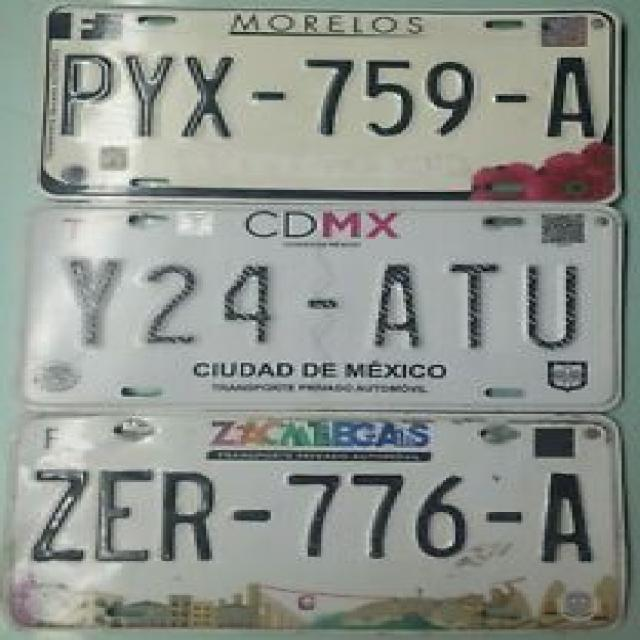placa: (12, 456, 621, 577), (29, 240, 612, 358), (54, 47, 610, 151)
